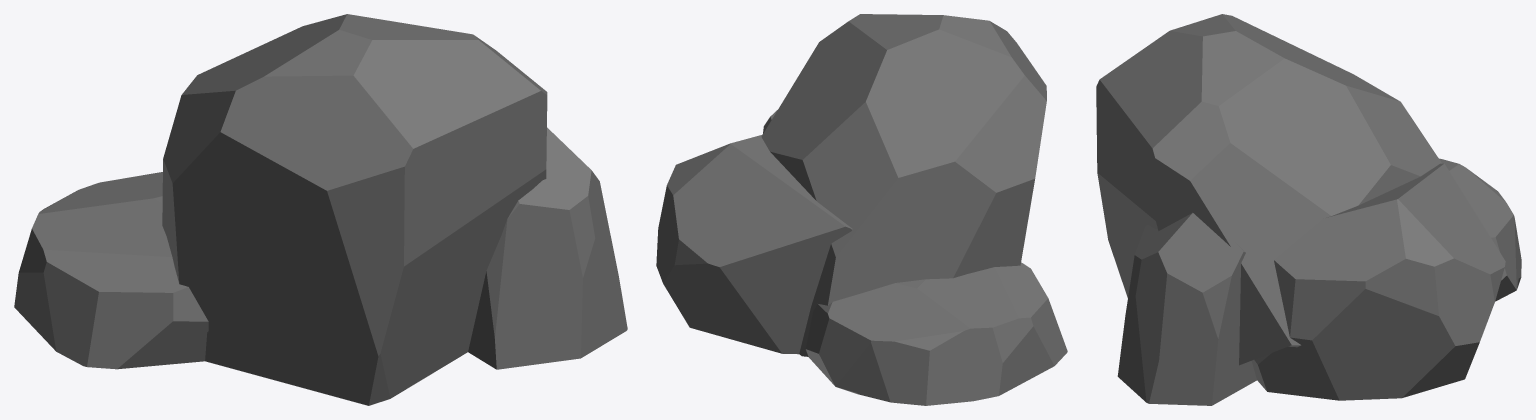
Rendered from Rocks.fbx.
3 renders of one model, left to right at view 1: azimuth 30°, elevation 25°; view 2: azimuth 150°, elevation 25°; view 3: azimuth 270°, elevation 25°, orthographic. The views are drawn at different scales.
Visible parts, largest first — view 1: Rock; view 2: Rock; view 3: Rock.
Boxes of the visible parts, x1,y1,x2,y2 form: Rock: [14, 14, 627, 405]; Rock: [656, 14, 1067, 405]; Rock: [1096, 14, 1521, 405].
Size of the model in its own units: 307 by 204 by 287.
